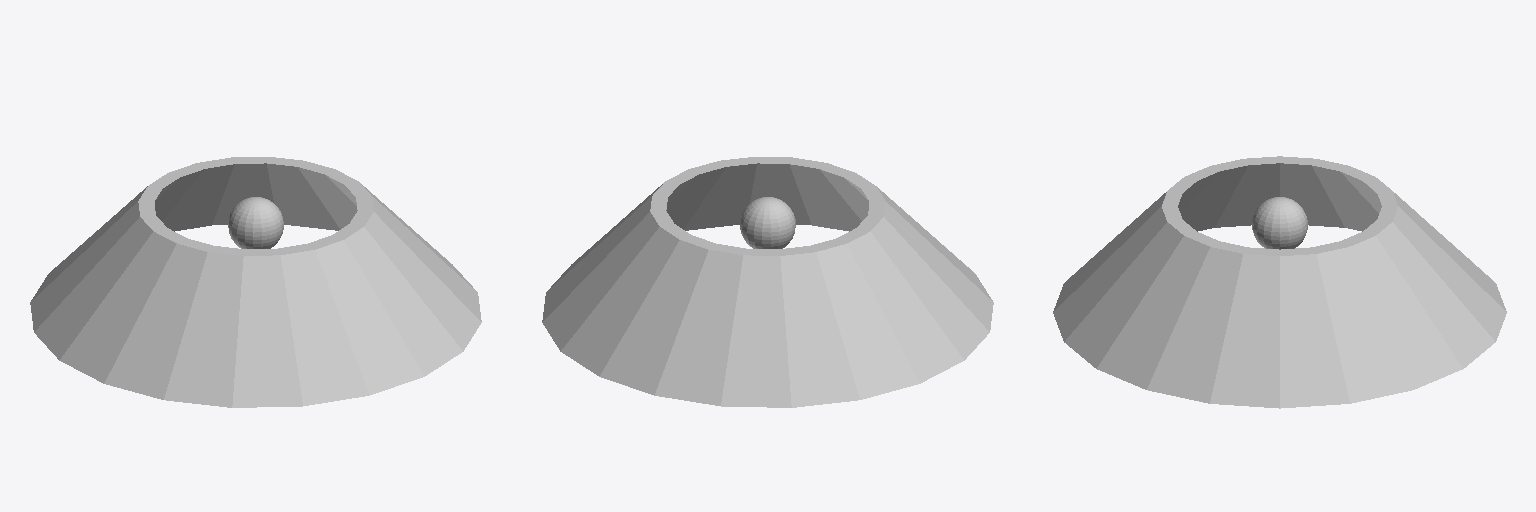
File: lamp.obj
3 renders of one model, left to right at view 1: azimuth 30°, elevation 25°; view 2: azimuth 150°, elevation 25°; view 3: azimuth 270°, elevation 25°, orthographic.
Visible parts, largest first — view 1: pSphere2; view 2: pSphere2; view 3: pSphere2.
Part boxes in pixels (bbox=[...]): pSphere2: bbox=[30, 157, 481, 407]; pSphere2: bbox=[542, 157, 993, 407]; pSphere2: bbox=[1053, 156, 1506, 408].
Bounding box in the file's own units: 2 × 0.5501 × 2.